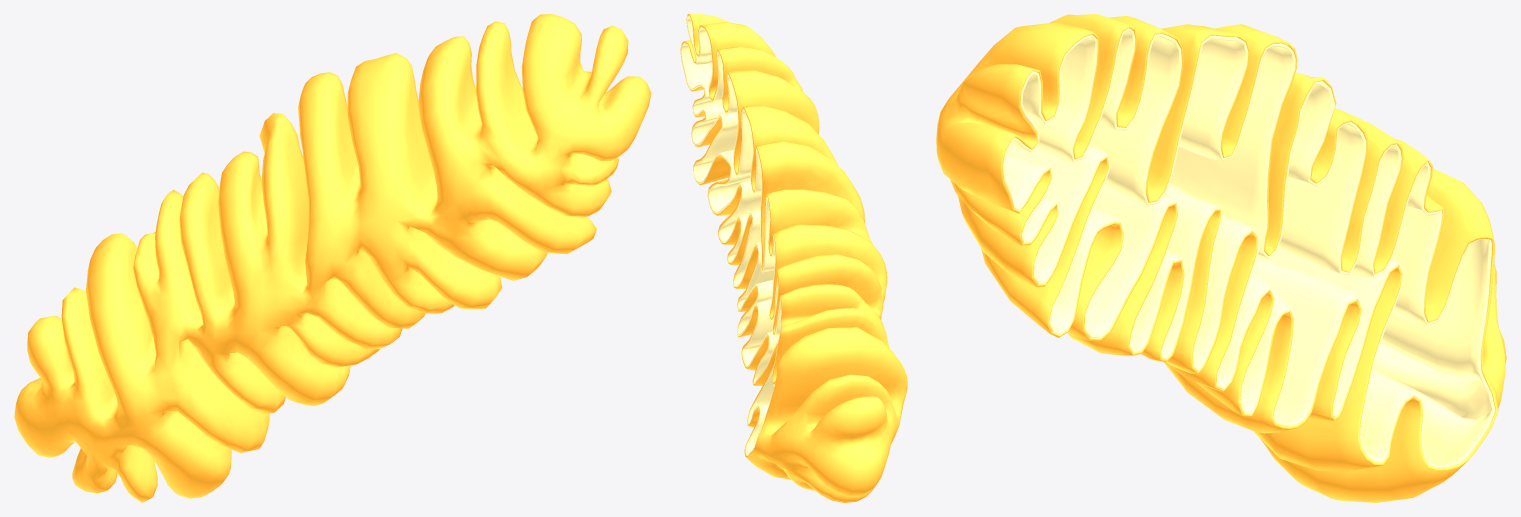
File: mitochondria_inner_membrane.fbx
3 renders of one model, left to right at view 1: azimuth 30°, elevation 25°; view 2: azimuth 150°, elevation 25°; view 3: azimuth 270°, elevation 25°, orthographic. The views are drawn at different scales.
Parts seen in each view (by area): view 1: Mitochondria_Inner_Membrane1; view 2: Mitochondria_Inner_Membrane1; view 3: Mitochondria_Inner_Membrane1.
Part boxes in pixels (left/top/right/bottom): Mitochondria_Inner_Membrane1: left=14, top=14, right=651, bottom=502; Mitochondria_Inner_Membrane1: left=680, top=14, right=907, bottom=502; Mitochondria_Inner_Membrane1: left=936, top=14, right=1506, bottom=502.
Bounding box in the file's own units: 269 × 279 × 232.
